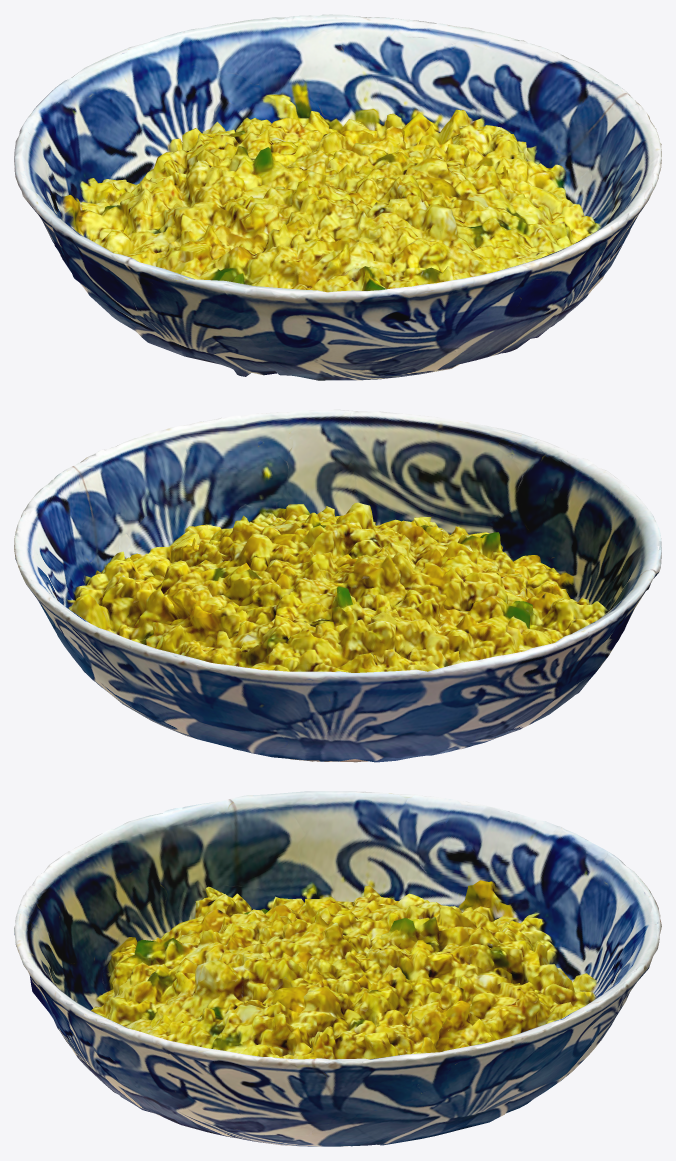
File: revuelto.glb
3 renders of one model, top to bottom at view 1: azimuth 30°, elevation 25°; view 2: azimuth 150°, elevation 25°; view 3: azimuth 270°, elevation 25°, orthographic.
Visible parts, largest first — view 1: TofuRevuelto; view 2: TofuRevuelto; view 3: TofuRevuelto.
Part boxes in pixels (x1,y1,x2,y2): TofuRevuelto: [14, 14, 661, 380]; TofuRevuelto: [14, 409, 661, 762]; TofuRevuelto: [14, 791, 661, 1146].
Size of the model in its own units: 0.2078 by 0.0522 by 0.2072.
1 material, 1 textured.
